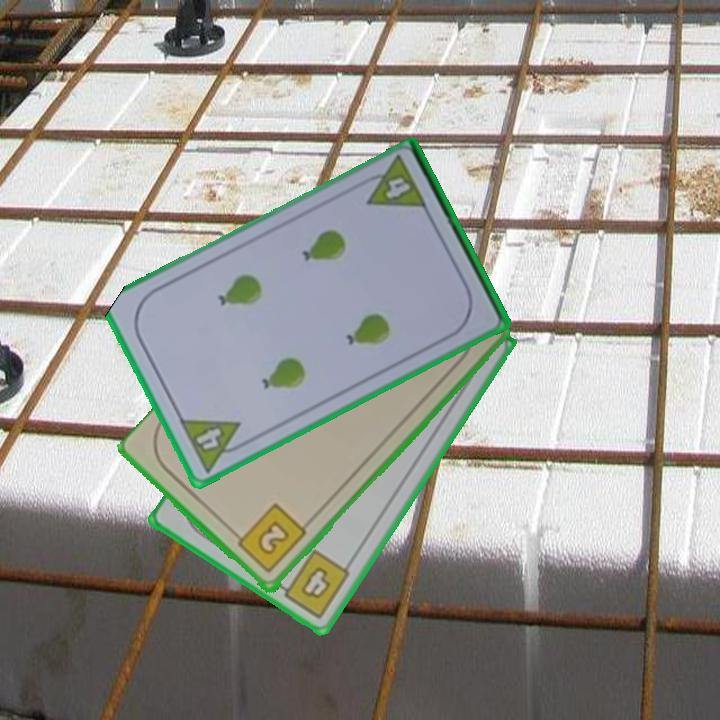2b: (229, 500, 310, 577)
4b: (272, 546, 353, 622)
4p: (176, 415, 253, 476), (355, 153, 430, 214)
